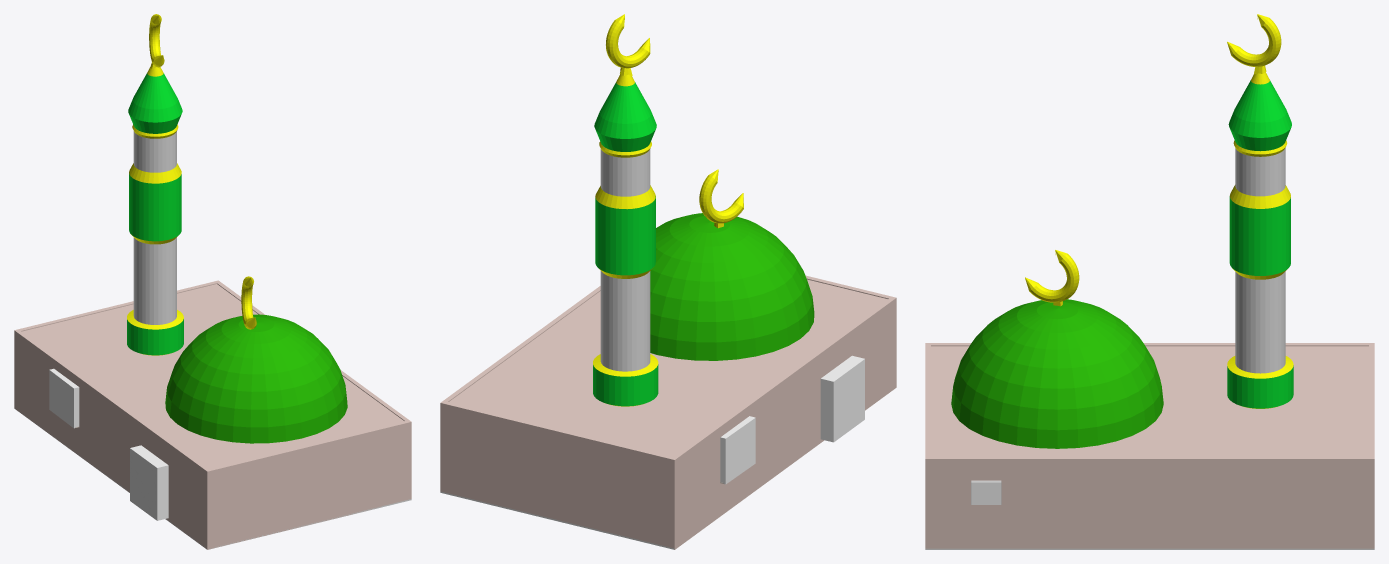
The model's file is Mosque.fbx.
The picture shows the model from 3 angles, left to right: view 1: azimuth 30°, elevation 25°; view 2: azimuth 150°, elevation 25°; view 3: azimuth 270°, elevation 25°; orthographic projection. The views are drawn at different scales.
Visible parts, largest first — view 1: Room, Sphere, Cube, Cone, CTRL_Hole.002, CTRL_Hole, Torus.001, Torus; view 2: Room, Cube, Sphere, Cone, CTRL_Hole.002, CTRL_Hole, Torus.001, Torus; view 3: Room, Cube, Sphere, Cone, Torus.001, Torus, Baseboard, CTRL_Hole.001.
Boxes of the visible parts, box(x1,y1,x2,y2) form: Room: box(14, 280, 411, 549); Sphere: box(165, 314, 347, 443); Cube: box(22, 284, 403, 468); Cone: box(127, 66, 183, 355); CTRL_Hole.002: box(130, 445, 168, 520); CTRL_Hole: box(49, 368, 79, 428); Torus.001: box(149, 14, 164, 69); Torus: box(241, 276, 256, 329); Room: box(440, 275, 896, 549); Cube: box(449, 279, 887, 456); Sphere: box(650, 213, 814, 360); Cone: box(593, 74, 658, 406); CTRL_Hole.002: box(820, 355, 864, 442); CTRL_Hole: box(720, 416, 755, 484); Torus.001: box(606, 14, 650, 75); Torus: box(699, 169, 743, 228); Room: box(925, 343, 1374, 548); Cube: box(931, 346, 1368, 456); Sphere: box(951, 299, 1163, 448); Cone: box(1227, 72, 1293, 408); Torus.001: box(1227, 14, 1281, 74); Torus: box(1025, 250, 1079, 306); Baseboard: box(925, 548, 1374, 549); CTRL_Hole.001: box(971, 480, 1001, 504).
Size of the model in its own units: 1168 by 2079 by 1789.
